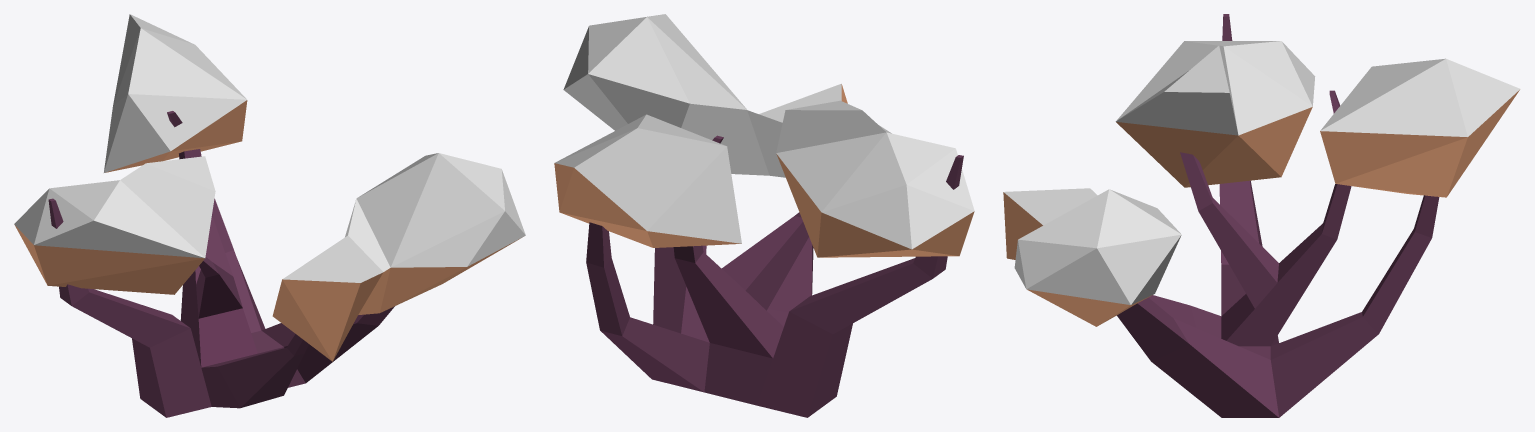
The model's file is BushWinter3_Alt4.fbx.
The picture shows the model from 3 angles, left to right: view 1: azimuth 30°, elevation 25°; view 2: azimuth 150°, elevation 25°; view 3: azimuth 270°, elevation 25°; orthographic projection. The views are drawn at different scales.
Visible parts, largest first — view 1: BushWinter3_Alt4; view 2: BushWinter3_Alt4; view 3: BushWinter3_Alt4.
Part boxes in pixels (bbox=[...]): BushWinter3_Alt4: bbox=[14, 14, 525, 417]; BushWinter3_Alt4: bbox=[554, 14, 974, 417]; BushWinter3_Alt4: bbox=[1003, 14, 1520, 417].
Bounding box in the file's own units: 0.9191 × 0.6291 × 0.9046.
